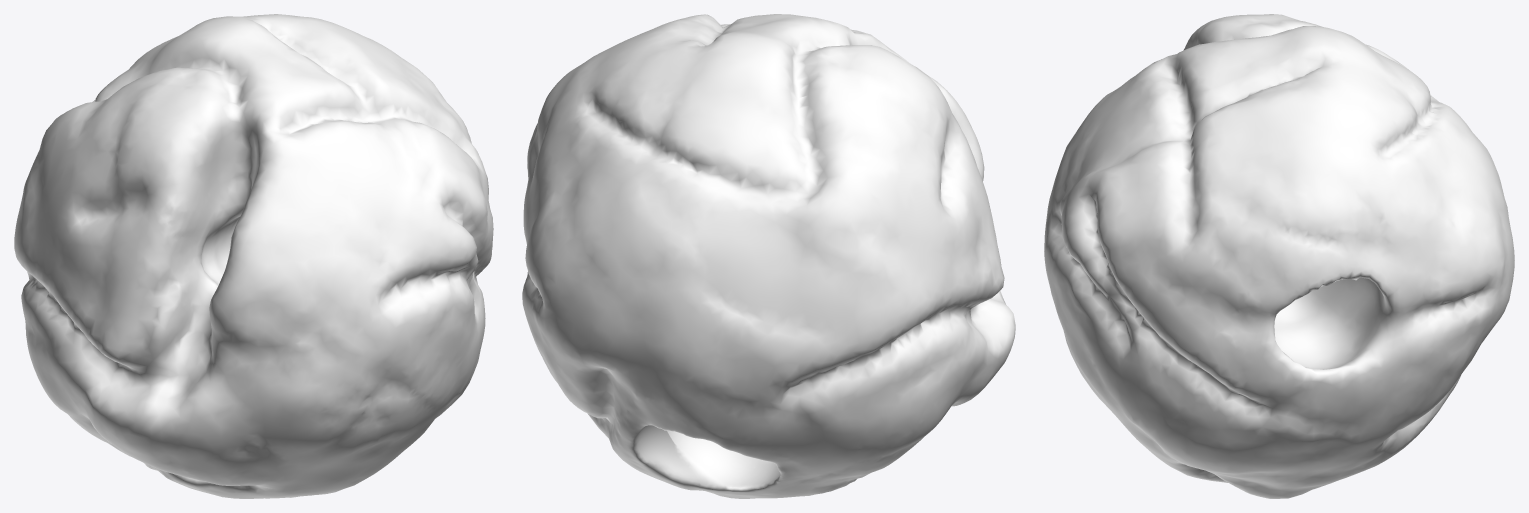
File: meteor.glb
3 renders of one model, left to right at view 1: azimuth 30°, elevation 25°; view 2: azimuth 150°, elevation 25°; view 3: azimuth 270°, elevation 25°, orthographic. The views are drawn at different scales.
Parts seen in each view (by area): view 1: Sculpt; view 2: Sculpt; view 3: Sculpt.
Boxes of the visible parts, bbox=[...] form: Sculpt: bbox=[14, 14, 493, 498]; Sculpt: bbox=[522, 14, 1015, 498]; Sculpt: bbox=[1044, 14, 1514, 498].
Bounding box in the file's own units: 2.09 × 2.24 × 2.15.
1 material, 1 textured.
